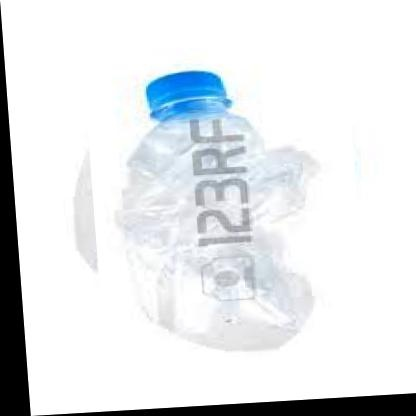trash: (122, 71, 311, 349)
